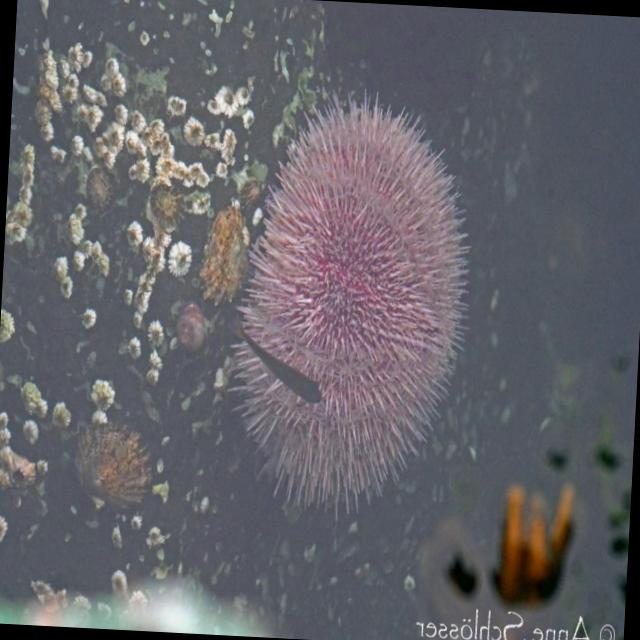Deniz Kestanesi: (219, 82, 479, 528)
